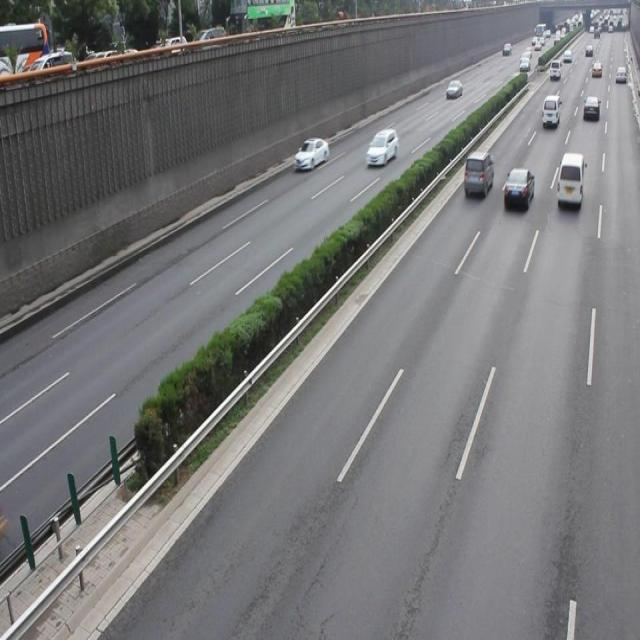car: (462, 151, 493, 199), (502, 167, 534, 212), (365, 128, 396, 166), (294, 136, 328, 170)
truck: (554, 151, 582, 208)
